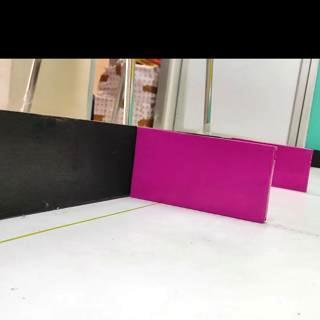xparking: (130, 129, 275, 222), (273, 146, 313, 191)
